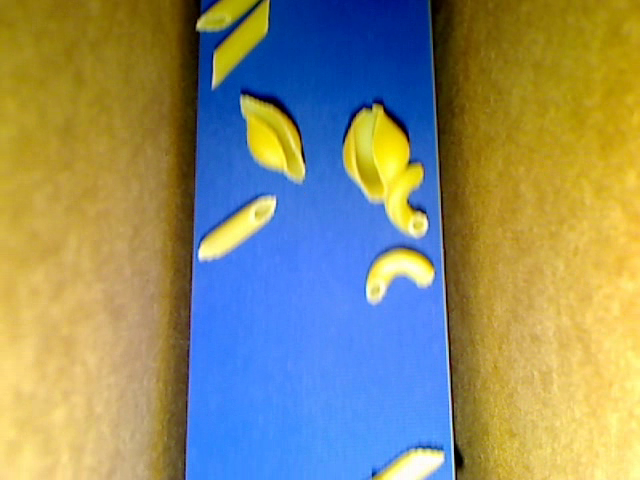elbow: (365, 248, 434, 304), (384, 163, 429, 237)
penne: (197, 193, 277, 261), (210, 1, 269, 87), (370, 446, 447, 479), (197, 1, 256, 34)
shell: (344, 104, 409, 202), (237, 93, 305, 183)
